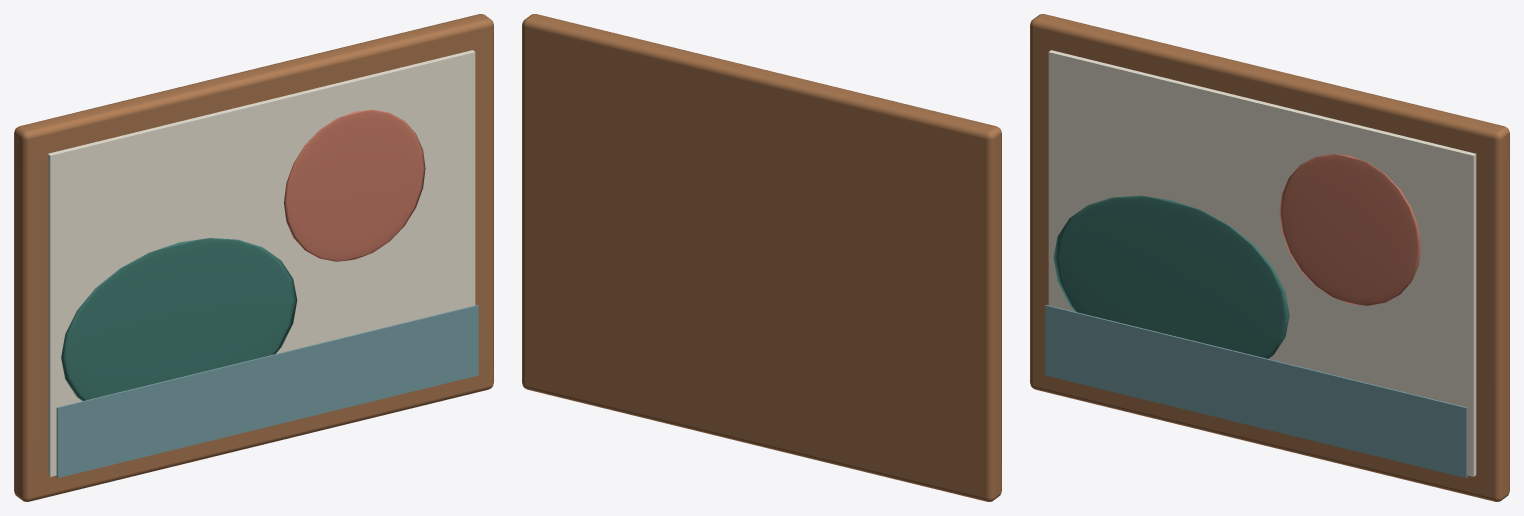
File: painting.glb
3 renders of one model, left to right at view 1: azimuth 30°, elevation 25°; view 2: azimuth 150°, elevation 25°; view 3: azimuth 330°, elevation 25°, orthographic.
Parts seen in each view (by area): view 1: Canvas, Oak picture frame, Low field, Hill, Sun; view 2: Oak picture frame; view 3: Canvas, Oak picture frame, Low field, Hill, Sun.
Part boxes in pixels (x1,y1,x2,y2): Canvas: (47, 50, 475, 476); Oak picture frame: (14, 14, 493, 501); Low field: (56, 305, 478, 478); Hill: (61, 238, 297, 400); Sun: (284, 109, 425, 261); Oak picture frame: (522, 14, 1001, 501); Canvas: (1048, 50, 1476, 476); Oak picture frame: (1030, 14, 1509, 501); Low field: (1045, 305, 1467, 478); Hill: (1053, 195, 1289, 358); Sun: (1279, 154, 1420, 305).
Bounding box in the file's own units: 1.2 × 0.9 × 0.0895.
